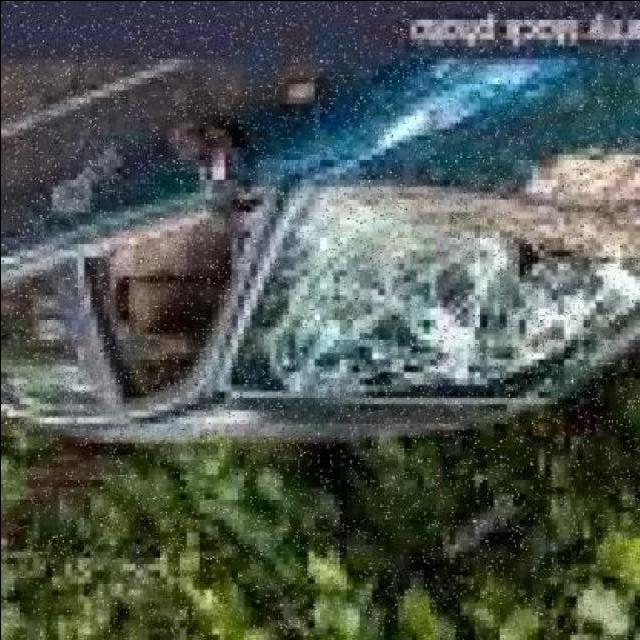Front-Windscreen-Damage: (192, 166, 640, 429)
